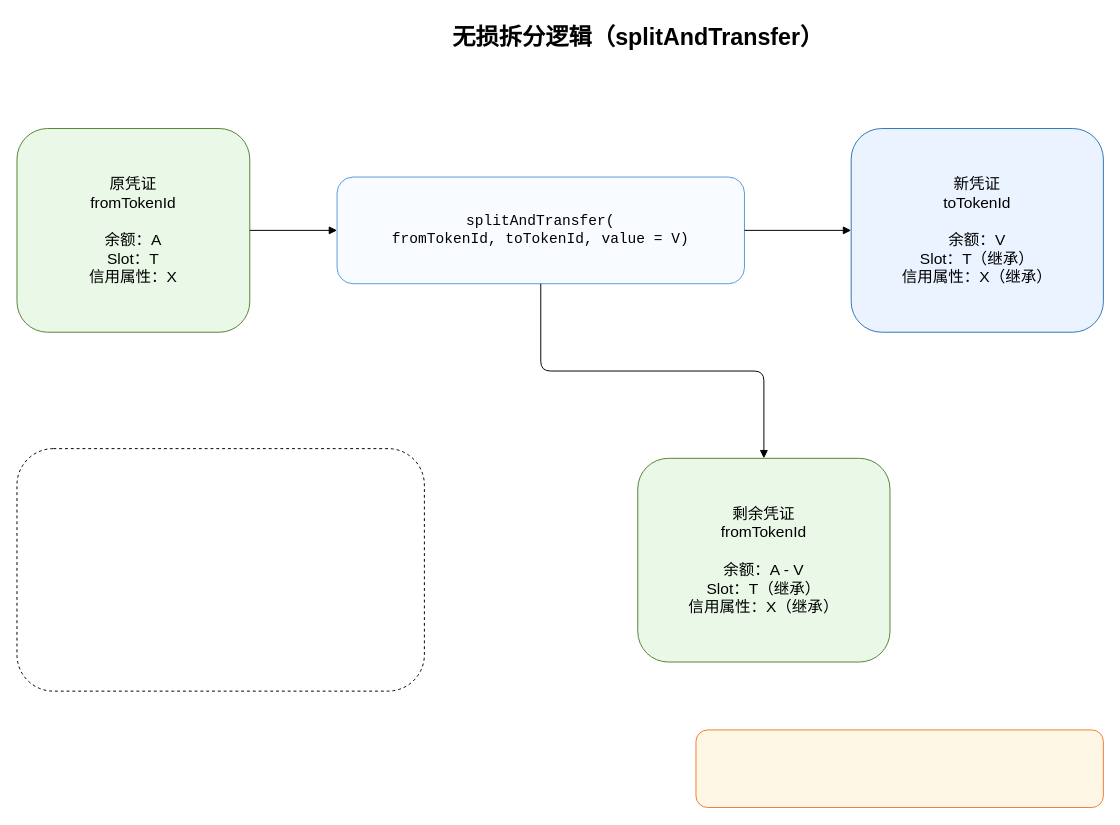
Image size: 1120x825. Some labels were removed from this diagram. The shapes that lost their labels are listed below. From the top down, each one's box as (x1, y1, x2, y2) in pixels, then its label:
(16, 448, 424, 691): 拆分守恒校验 ✓ 原余额 A ≥ V ✓ 剩余余额 = A - V ✓ 新凭证余额 = V ✓ 严格验证：V + (A - V) = A
(695, 729, 1103, 808): 事件：AssetSplit（记录拆分溯源与层级）
